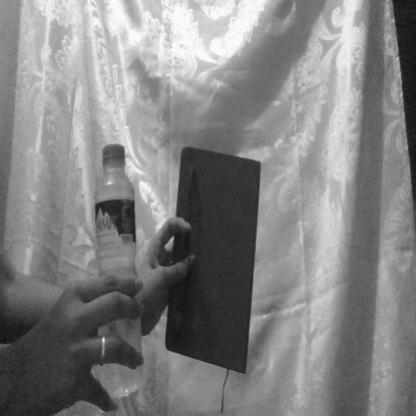Plastic Bottle: (77, 127, 148, 404)
